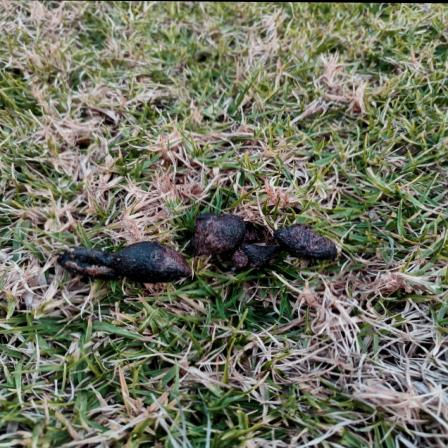dog-poop: (43, 191, 339, 294)
